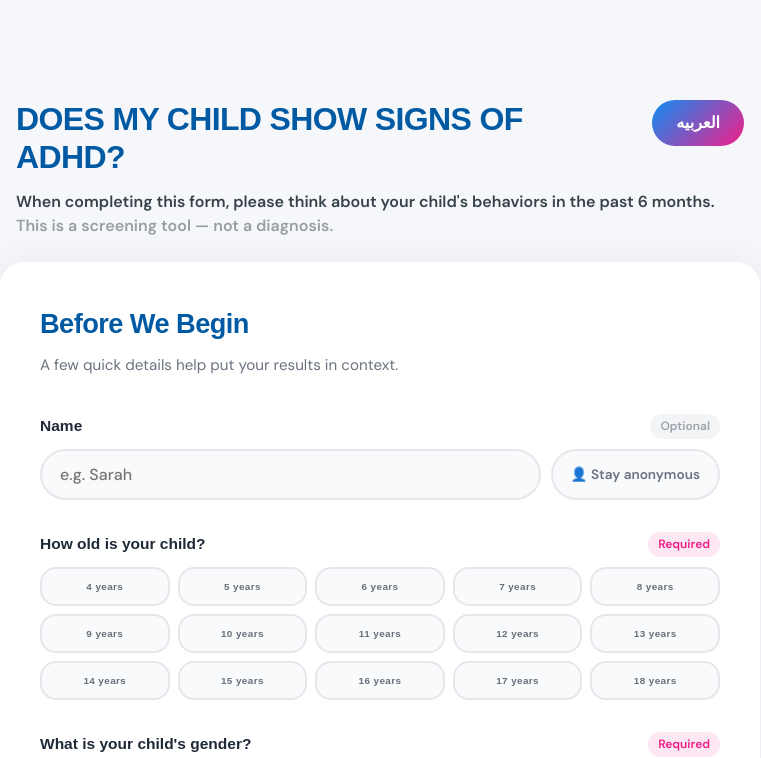
Test case: Quiz — Question screen navigation › transitions to quiz screen after valid intake submission
Step 1. Click the button "8 years" → coordinates (655, 586), box [590,567,720,606]
(page scrolled)
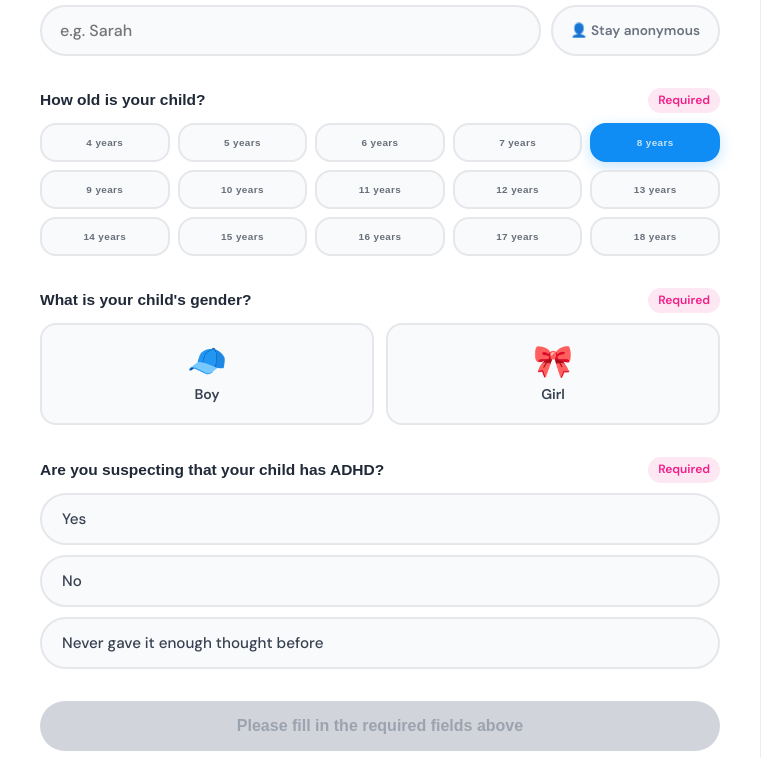
Step 2. Click the button "🧢 Boy" → coordinates (207, 374), box [40,323,374,426]
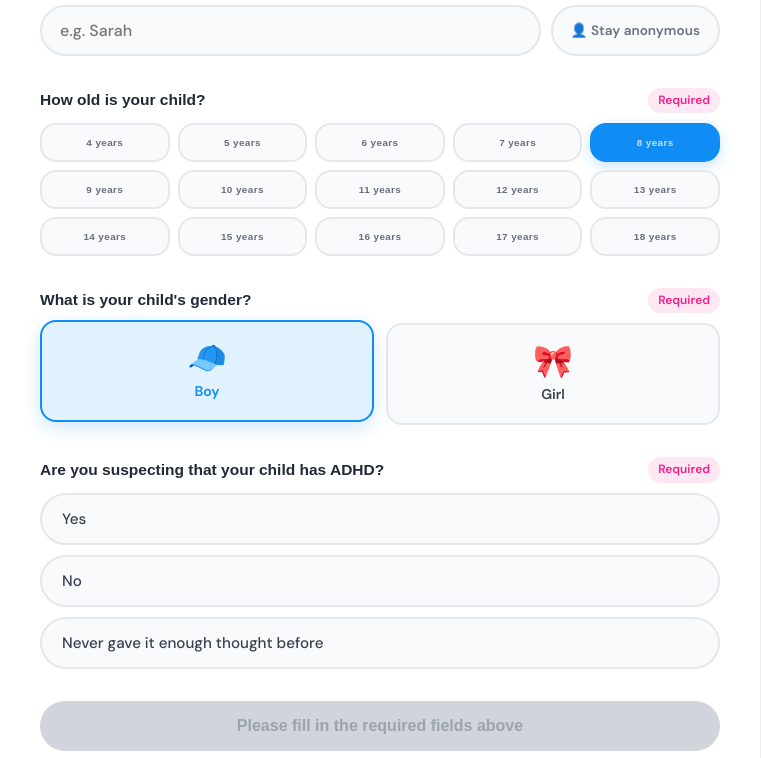
Step 3. Click the button "Yes" → coordinates (74, 519), box [40,493,720,545]
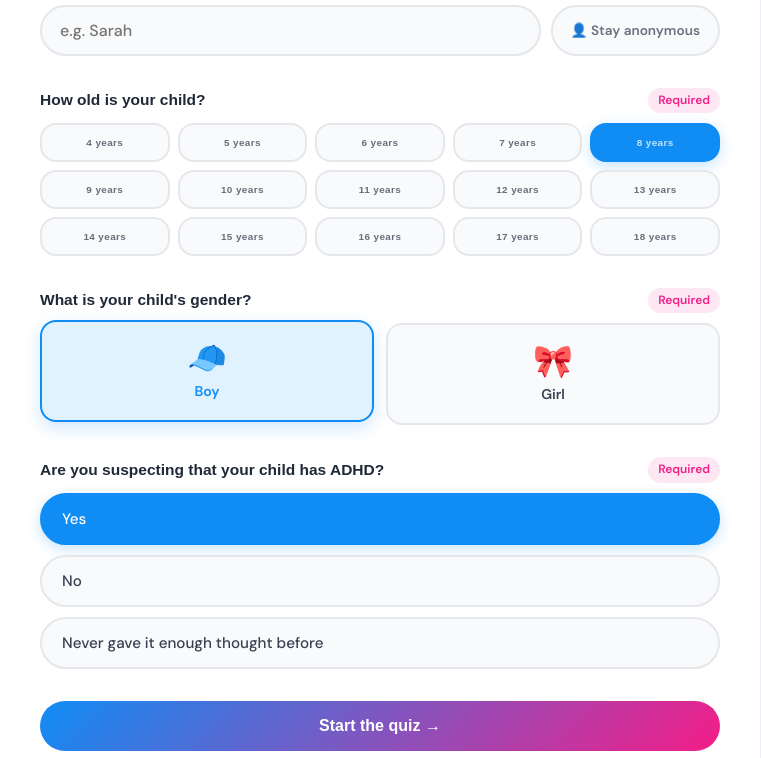
Step 4. Click the button "Start the quiz →" → coordinates (380, 726), box [40,701,720,751]
(page scrolled)
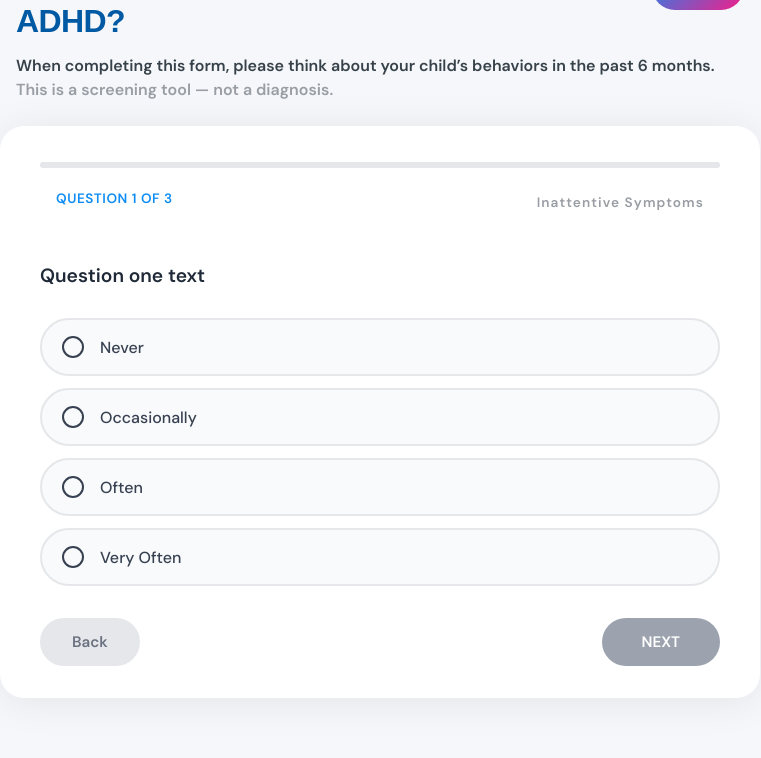
Expected: the text "Question 1 of 3" is shown, [56,188,173,210]
